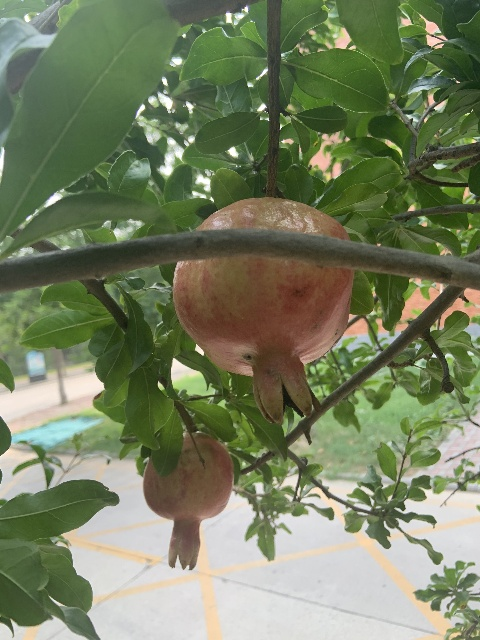ripe: (173, 197, 354, 426), (142, 432, 234, 571)
